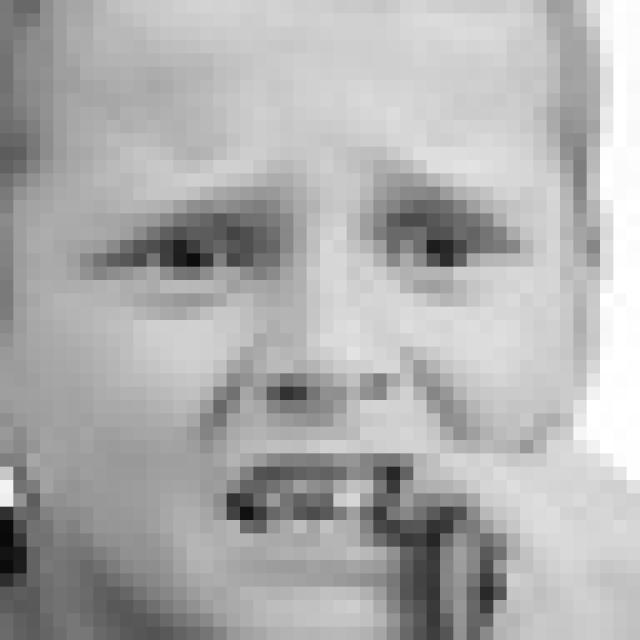fear: (67, 142, 540, 594)
